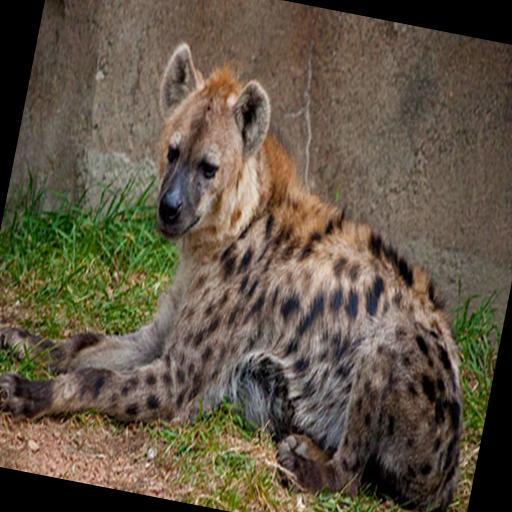hyenas: (0, 18, 512, 512)
